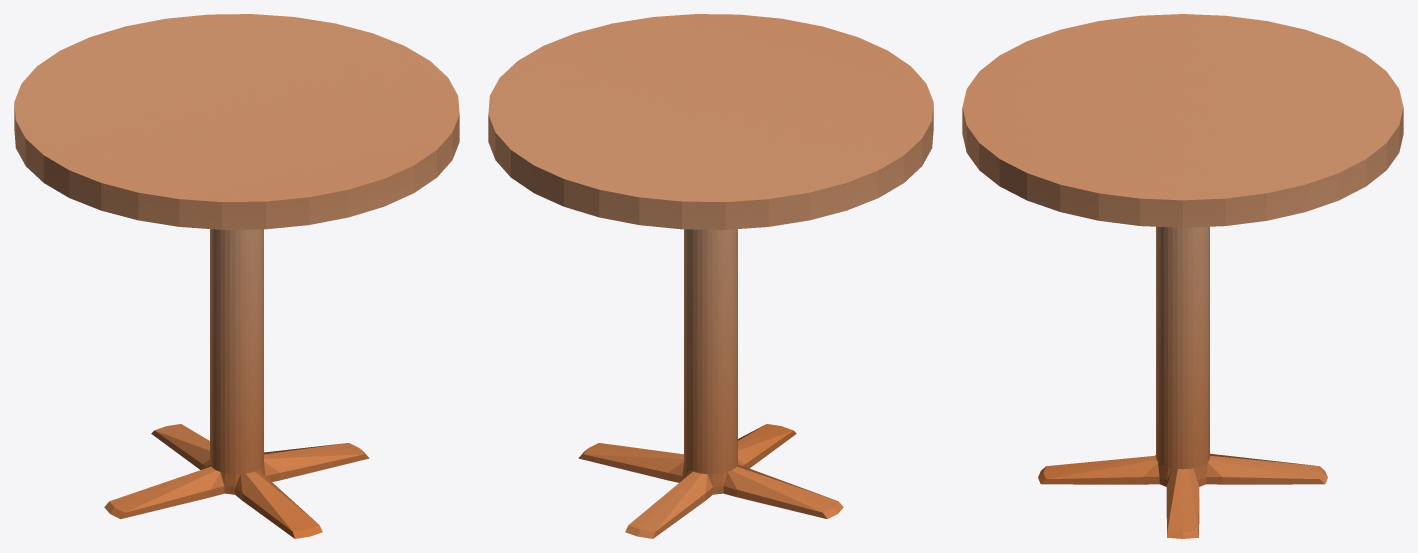
Rendered from CircleTableTextured.fbx.
3 renders of one model, left to right at view 1: azimuth 30°, elevation 25°; view 2: azimuth 150°, elevation 25°; view 3: azimuth 270°, elevation 25°, orthographic.
Parts seen in each view (by area): view 1: Table; view 2: Table; view 3: Table.
Boxes of the visible parts, x1,y1,x2,y2 form: Table: (14, 14, 459, 538); Table: (488, 14, 933, 538); Table: (962, 14, 1403, 538).
Bounding box in the file's own units: 1145 × 1061 × 1145.
1 material, 1 textured.
